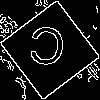C: (25, 25, 68, 76)
